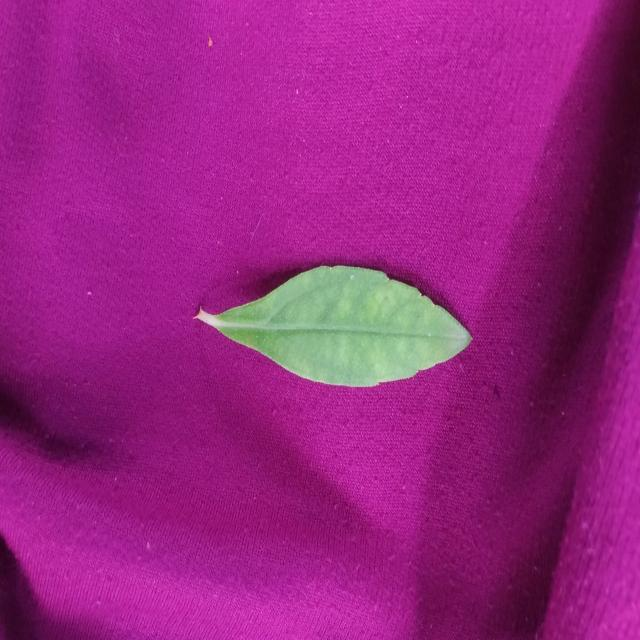bringaraja: (196, 264, 471, 387)
